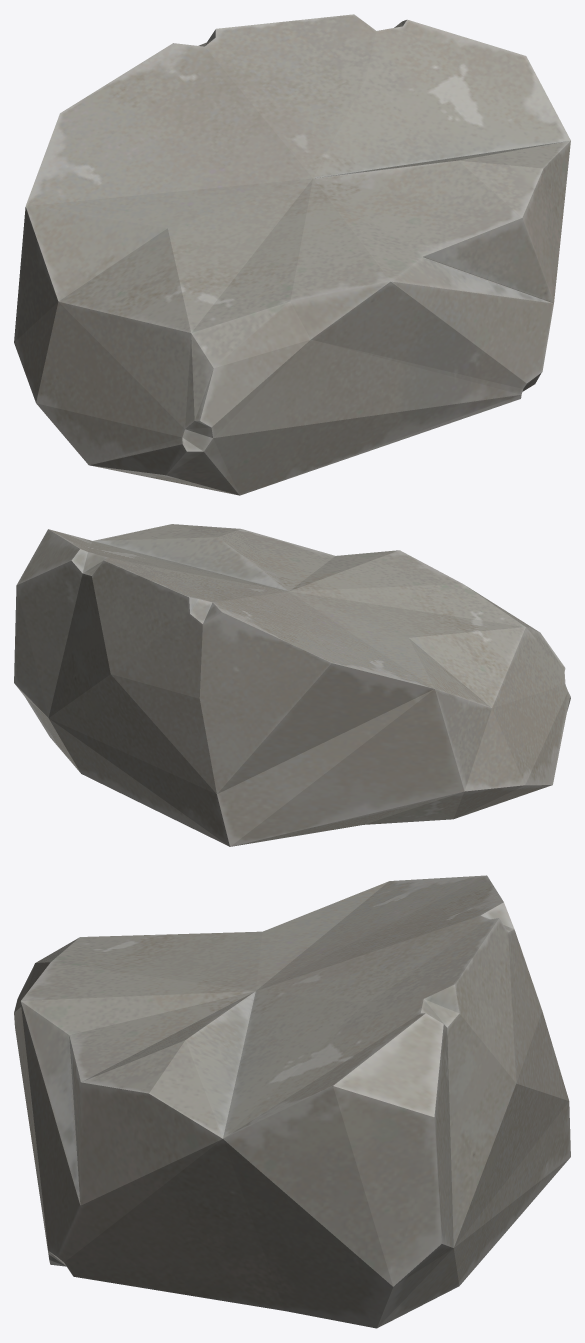
Rendered from stone.fbx.
3 views of the same model, one above another, from view 1: azimuth 30°, elevation 25°; view 2: azimuth 150°, elevation 25°; view 3: azimuth 270°, elevation 25° (orthographic). The views are drawn at different scales.
Visible parts, largest first — view 1: pCube1; view 2: pCube1; view 3: pCube1.
Part boxes in pixels (x1,y1,x2,y2): pCube1: (14,14,570,495); pCube1: (14,524,570,846); pCube1: (14,875,570,1328).
Size of the model in its own units: 65.68 by 35.27 by 53.1.
